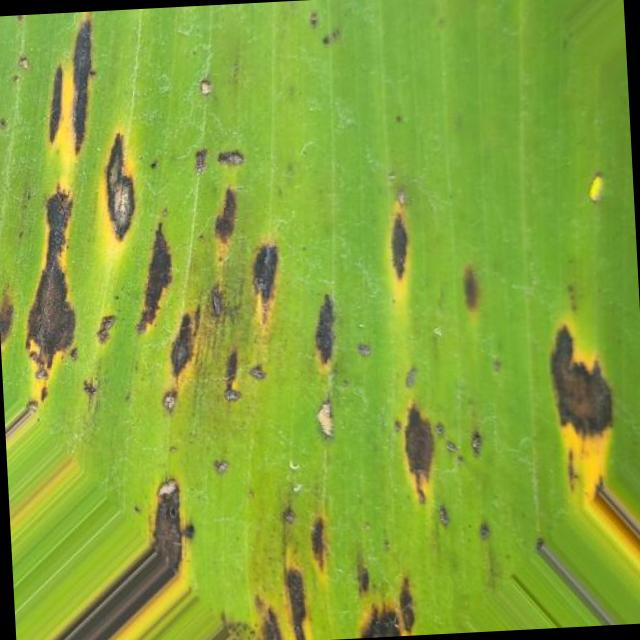Banana_Black_Sigatoka: (0, 20, 297, 432), (301, 228, 638, 512), (134, 451, 495, 640)
